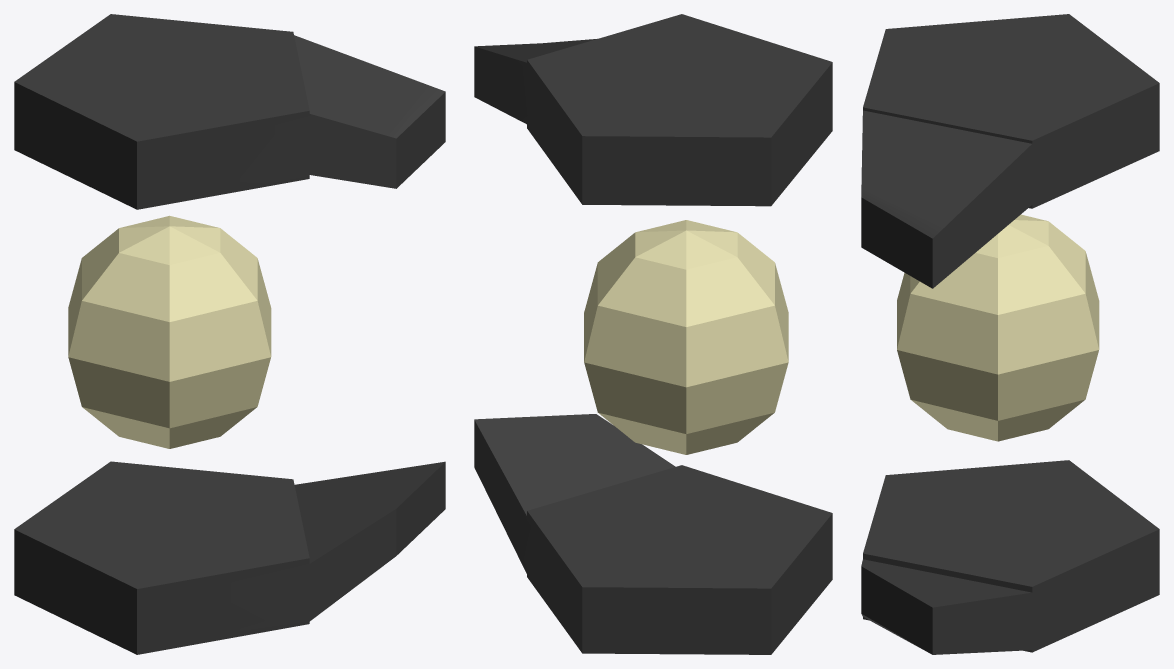
Rendered from WallLight_low.fbx.
3 views of the same model, side by side, from view 1: azimuth 30°, elevation 25°; view 2: azimuth 150°, elevation 25°; view 3: azimuth 270°, elevation 25° (orthographic).
Parts seen in each view (by area): view 1: WallLightLow, WallLightOrblow; view 2: WallLightLow, WallLightOrblow; view 3: WallLightLow, WallLightOrblow.
Part boxes in pixels (x1,y1,x2,y2): WallLightLow: (14, 14, 445, 654); WallLightOrblow: (68, 215, 271, 448); WallLightLow: (474, 14, 832, 654); WallLightOrblow: (584, 220, 788, 454); WallLightLow: (861, 14, 1159, 654); WallLightOrblow: (897, 214, 1099, 441).
Bounding box in the file's own units: 0.4628 × 0.6251 × 0.3304.
